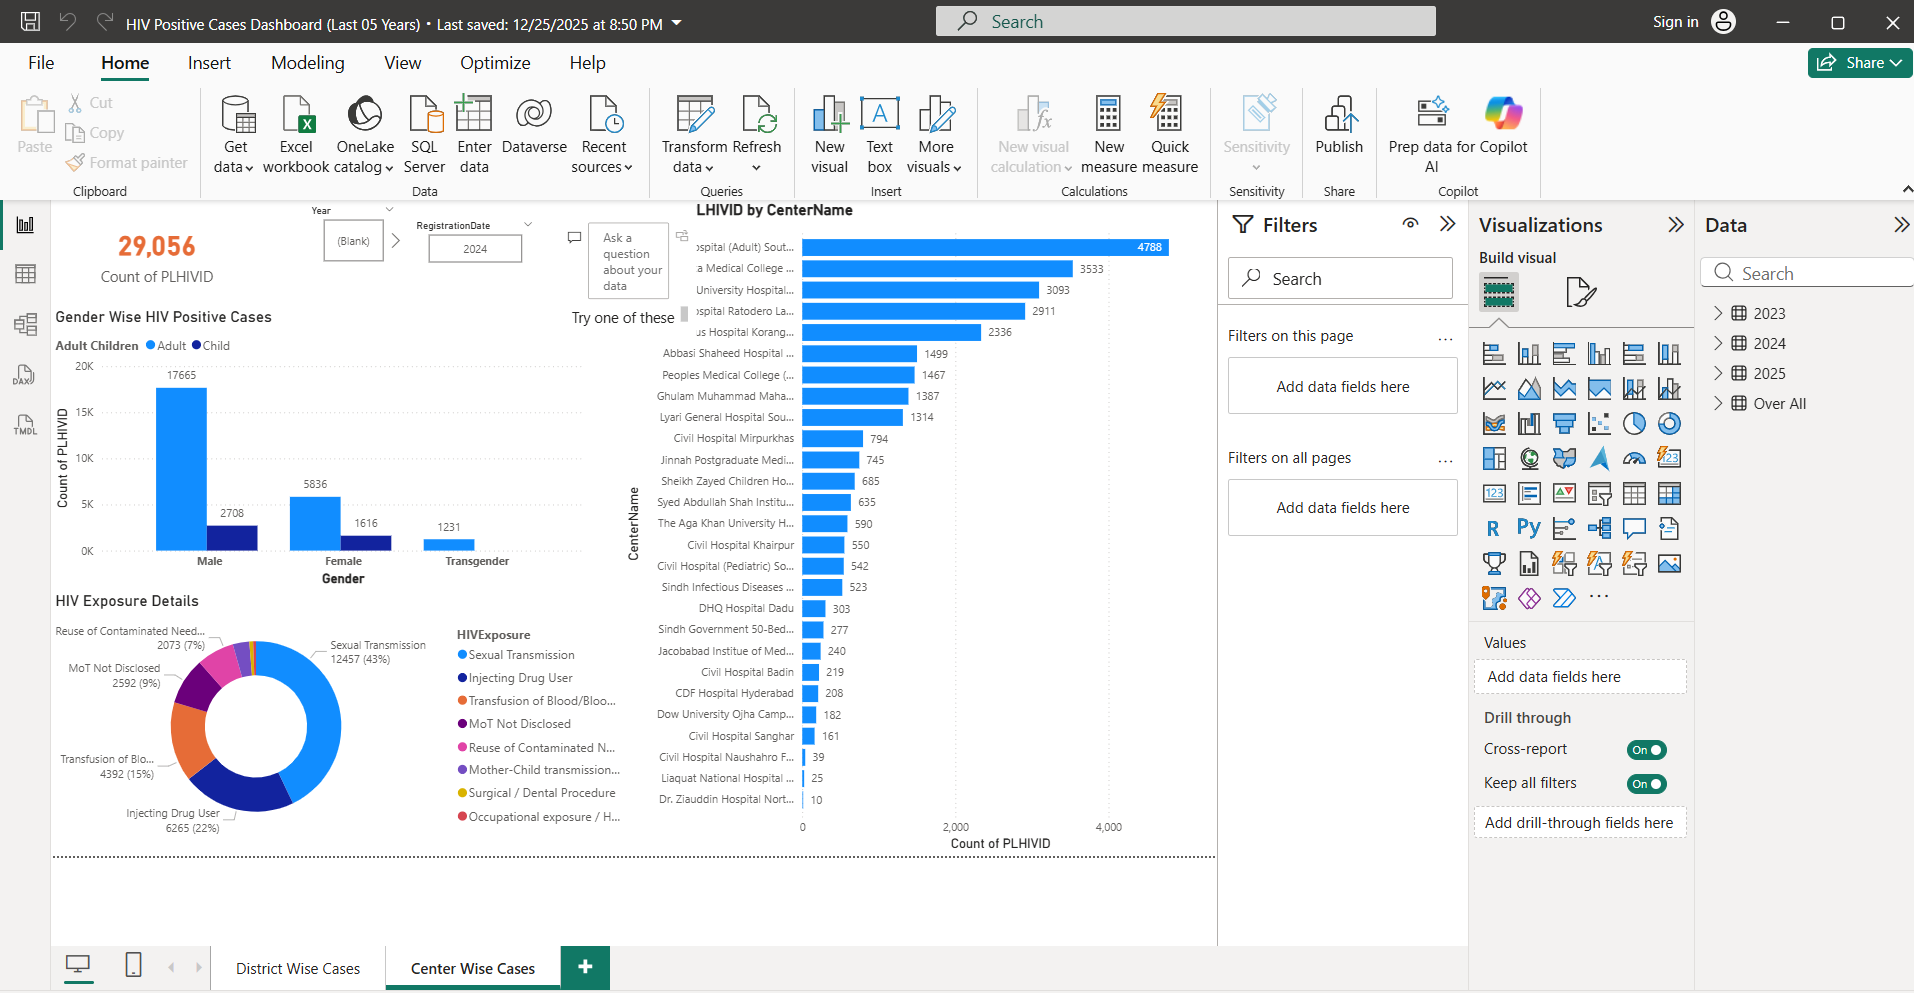

Layout of this report page (visuals, bound fields, positions):
{"tool":"powerbi","page":{"name":"Center Wise Cases","canvas":[1280,720],"ordinal":1},"visuals":[{"type":"clusteredColumnChart","title":"Gender Wise HIV Positive Cases","fields":{"Y":["CountNonNull(Over All.PLHIVID)"],"Category":["Over All.Gender"],"Series":["Over All.AdultChildren"]},"box":[0,118.6,590.6,310.6],"z":0},{"type":"donutChart","title":"HIV Exposure Details","fields":{"Category":["Over All.HIVExposure"],"Y":["CountNonNull(Over All.PLHIVID)"]},"box":[0,429.2,639.5,276.4],"z":1000},{"type":"clusteredBarChart","fields":{"Category":["Over All.CenterName"],"Y":["CountNonNull(Over All.PLHIVID)"]},"box":[627.3,0,653,720.2],"z":2000},{"type":"card","fields":{"Values":["CountNonNull(Over All.PLHIVID)"]},"box":[0,0,232.9,118.6],"z":3000},{"type":"slicer","fields":{"Values":["2025.RegistrationDate"]},"box":[272.7,0,116.2,74.6],"z":4000},{"type":"slicer","fields":{"Values":["2024.RegistrationDate"]},"box":[388.9,15.9,152.9,58.7],"z":5000},{"type":"qnaVisual","box":[558.8,0,150,150],"z":6000}]}

Visuals, with their boxes on the page's 1280x720 design canvas (x1, y1, x2, y2). These are canvas units, not pixel positions in the 1914x993 screenshot, which may show the page scaled, cropped or inside an application window:
"Gender Wise HIV Positive Cases" clusteredColumnChart: bbox=(0, 119, 591, 429)
"HIV Exposure Details" donutChart: bbox=(0, 429, 640, 706)
clusteredBarChart - Over All.CenterName x CountNonNull(Over All.PLHIVID): bbox=(627, 0, 1280, 720)
card - CountNonNull(Over All.PLHIVID): bbox=(0, 0, 233, 119)
slicer - 2025.RegistrationDate: bbox=(273, 0, 389, 75)
slicer - 2024.RegistrationDate: bbox=(389, 16, 542, 75)
qnaVisual: bbox=(559, 0, 709, 150)
